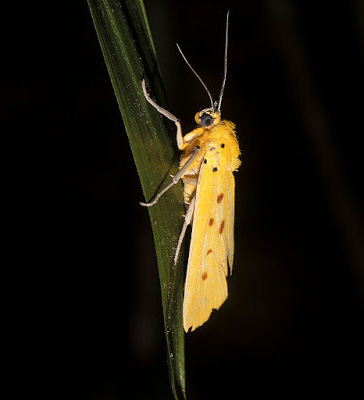Agape chloropyga: (131, 5, 244, 333)
moth: (133, 7, 246, 335)
